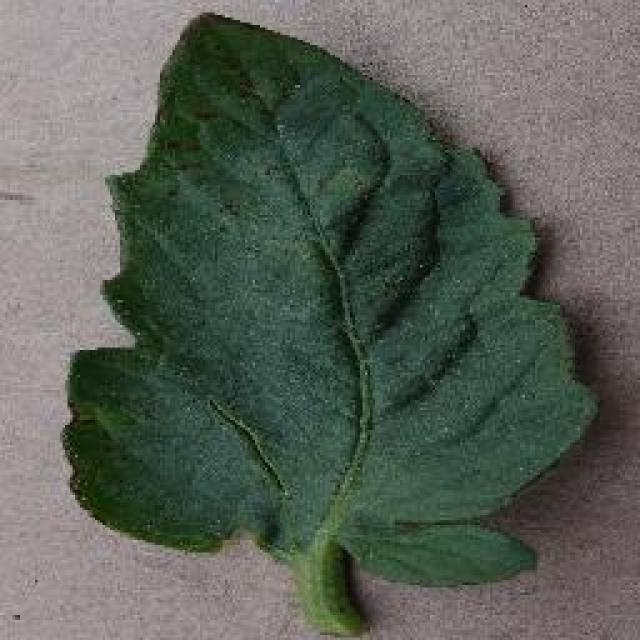Tomato___Bacterial_spot: (56, 12, 603, 635)
